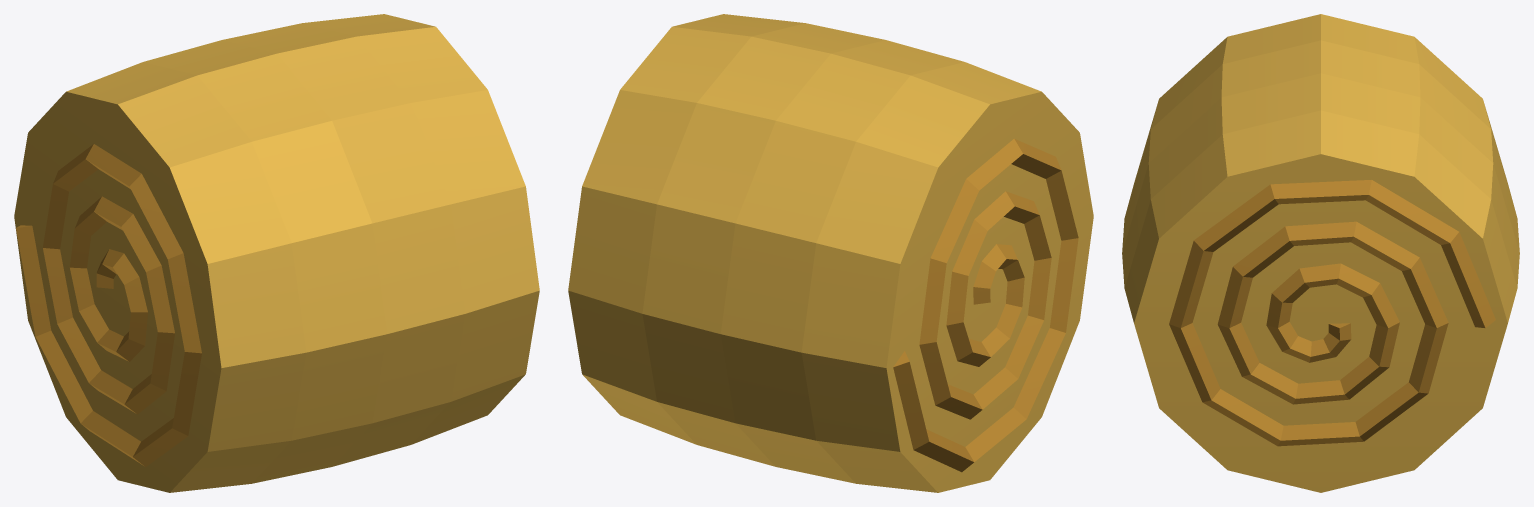
Rendered from SM_HayBale.glb.
The picture shows the model from 3 angles, left to right: view 1: azimuth 30°, elevation 25°; view 2: azimuth 150°, elevation 25°; view 3: azimuth 270°, elevation 25°; orthographic projection. The views are drawn at different scales.
Visible parts, largest first — view 1: SM_HayBale; view 2: SM_HayBale; view 3: SM_HayBale.
Part boxes in pixels (left/top/right/bottom): SM_HayBale: left=14, top=14, right=539, bottom=492; SM_HayBale: left=568, top=14, right=1093, bottom=492; SM_HayBale: left=1122, top=14, right=1519, bottom=492.
Size of the model in its own units: 1.07 by 1.2 by 1.2.
1 material, 1 textured.
